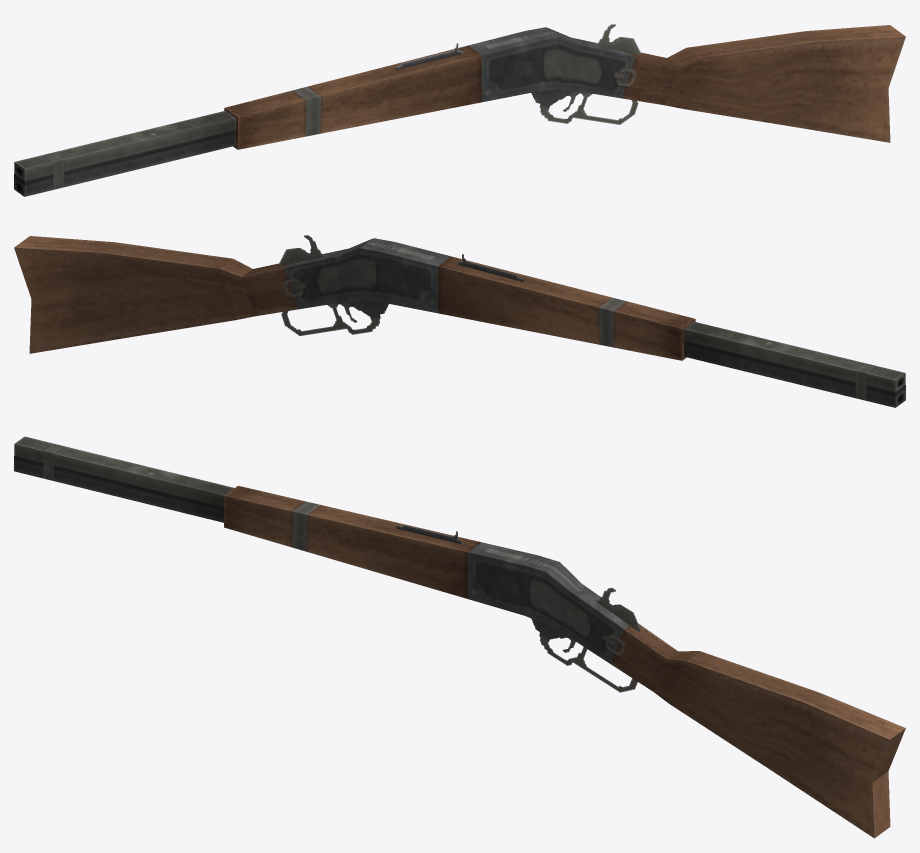
Rendered from Repeater.Rifle.fbx.
The picture shows the model from 3 angles, top to bottom: view 1: azimuth 30°, elevation 25°; view 2: azimuth 150°, elevation 25°; view 3: azimuth 330°, elevation 25°; orthographic projection.
Visible parts, largest first — view 1: Repeater.Rifle; view 2: Repeater.Rifle; view 3: Repeater.Rifle.
Part boxes in pixels (left/top/right/bottom): Repeater.Rifle: left=14, top=24, right=905, bottom=196; Repeater.Rifle: left=14, top=235, right=905, bottom=407; Repeater.Rifle: left=14, top=436, right=905, bottom=838.
Size of the model in its own units: 175 by 39 by 5.51.
